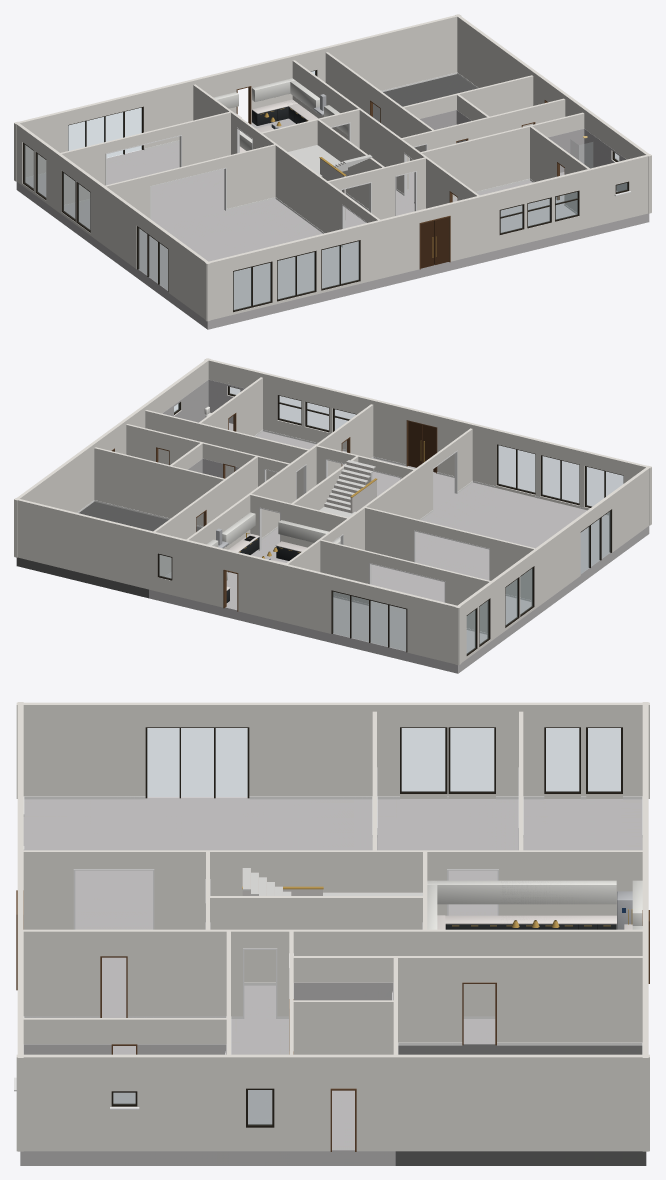
File: int_est_S10_0.glb
3 renders of one model, top to bottom at view 1: azimuth 30°, elevation 25°; view 2: azimuth 150°, elevation 25°; view 3: azimuth 270°, elevation 25°, orthographic. The views are drawn at different scales.
Visible parts, largest first — view 1: ROOM, WALL_0, WALL_9, WALL_4, WALL_1, WALL_12, WALL_10, WALL_2, WALL_3, WALL_8, WALL_14, WALL_13 (+5 smaller); view 2: ROOM, WALL_9, WALL_0, WALL_4, WALL_1, WALL_15, WALL_12, WALL_2, WALL_3, WALL_8, WALL_10, WALL_13 (+5 smaller); view 3: ROOM, WALL_12, WALL_4, WALL_2, WALL_1, WALL_14, WALL_7, WALL_11, WALL_16, WALL_0, WALL_9, WALL_3 (+1 smaller).
Boxes of the visible parts, box(x1,y1,x2,y2) form: ROOM: box(16, 72, 649, 329); WALL_0: box(204, 154, 651, 321); WALL_9: box(14, 14, 460, 181); WALL_4: box(14, 121, 210, 321); WALL_1: box(143, 84, 379, 247); WALL_12: box(455, 14, 651, 213); WALL_10: box(419, 112, 584, 197); WALL_2: box(292, 60, 479, 208); WALL_3: box(105, 144, 275, 229); WALL_8: box(60, 111, 230, 204); WALL_14: box(325, 52, 433, 160); WALL_13: box(400, 98, 565, 190); ROOM: box(16, 379, 649, 673); WALL_9: box(14, 498, 461, 665); WALL_0: box(205, 358, 651, 525); WALL_4: box(455, 465, 651, 665); WALL_1: box(238, 428, 472, 633); WALL_15: box(94, 447, 224, 526); WALL_12: box(14, 358, 210, 557); WALL_2: box(186, 404, 373, 549); WALL_3: box(365, 507, 534, 599); WALL_8: box(320, 539, 490, 632); WALL_10: box(145, 410, 309, 499); WALL_13: box(126, 424, 290, 486); ROOM: box(20, 796, 646, 1165); WALL_12: box(16, 1054, 649, 1151); WALL_4: box(16, 702, 649, 798); WALL_2: box(23, 929, 642, 1018); WALL_1: box(23, 850, 642, 929); WALL_14: box(293, 956, 642, 1045); WALL_7: box(208, 896, 424, 982); WALL_11: box(23, 1018, 226, 1054); WALL_16: box(293, 1000, 395, 1054); WALL_0: box(14, 702, 23, 1151); WALL_9: box(642, 702, 649, 1151); WALL_3: box(372, 711, 377, 850).
Bounding box in the file's own units: 29.41 × 4.2 × 22.16.
16 materials, 1 textured.
